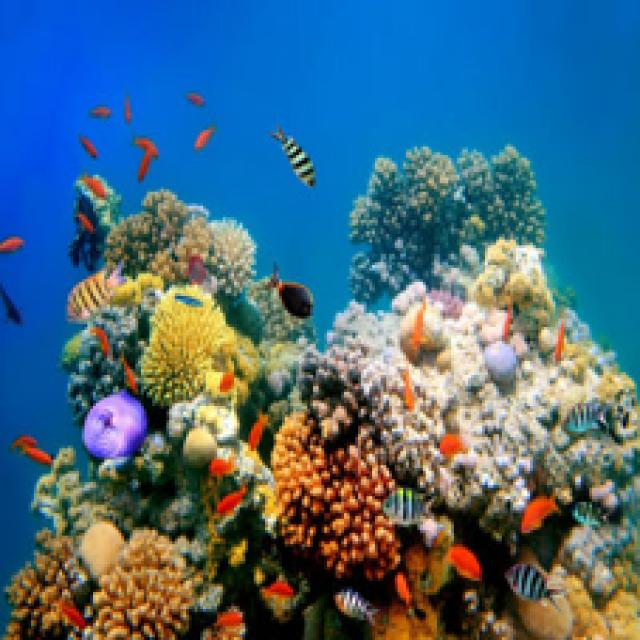Healthy: (300, 258, 638, 593), (351, 148, 542, 277), (274, 413, 399, 579), (105, 190, 252, 294), (88, 525, 193, 638), (142, 286, 227, 407), (7, 531, 88, 638), (83, 390, 145, 458)
